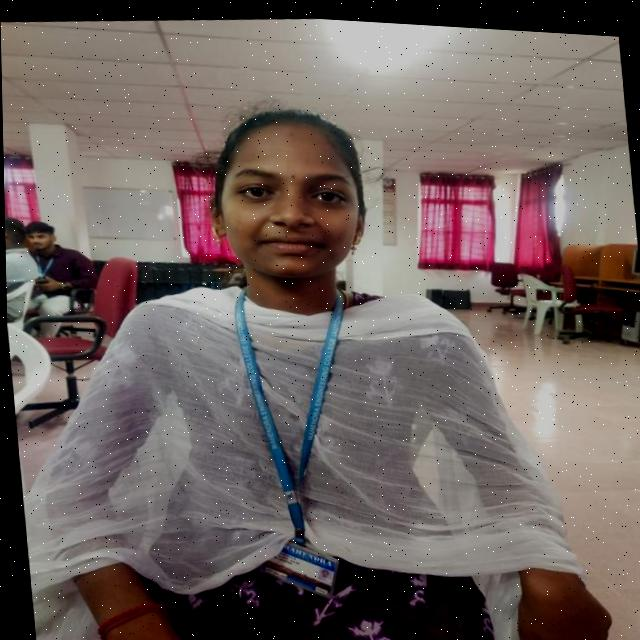id_card: (209, 267, 373, 604)
